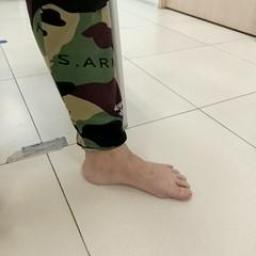Medial View -Left Foot-: (62, 113, 210, 218)
